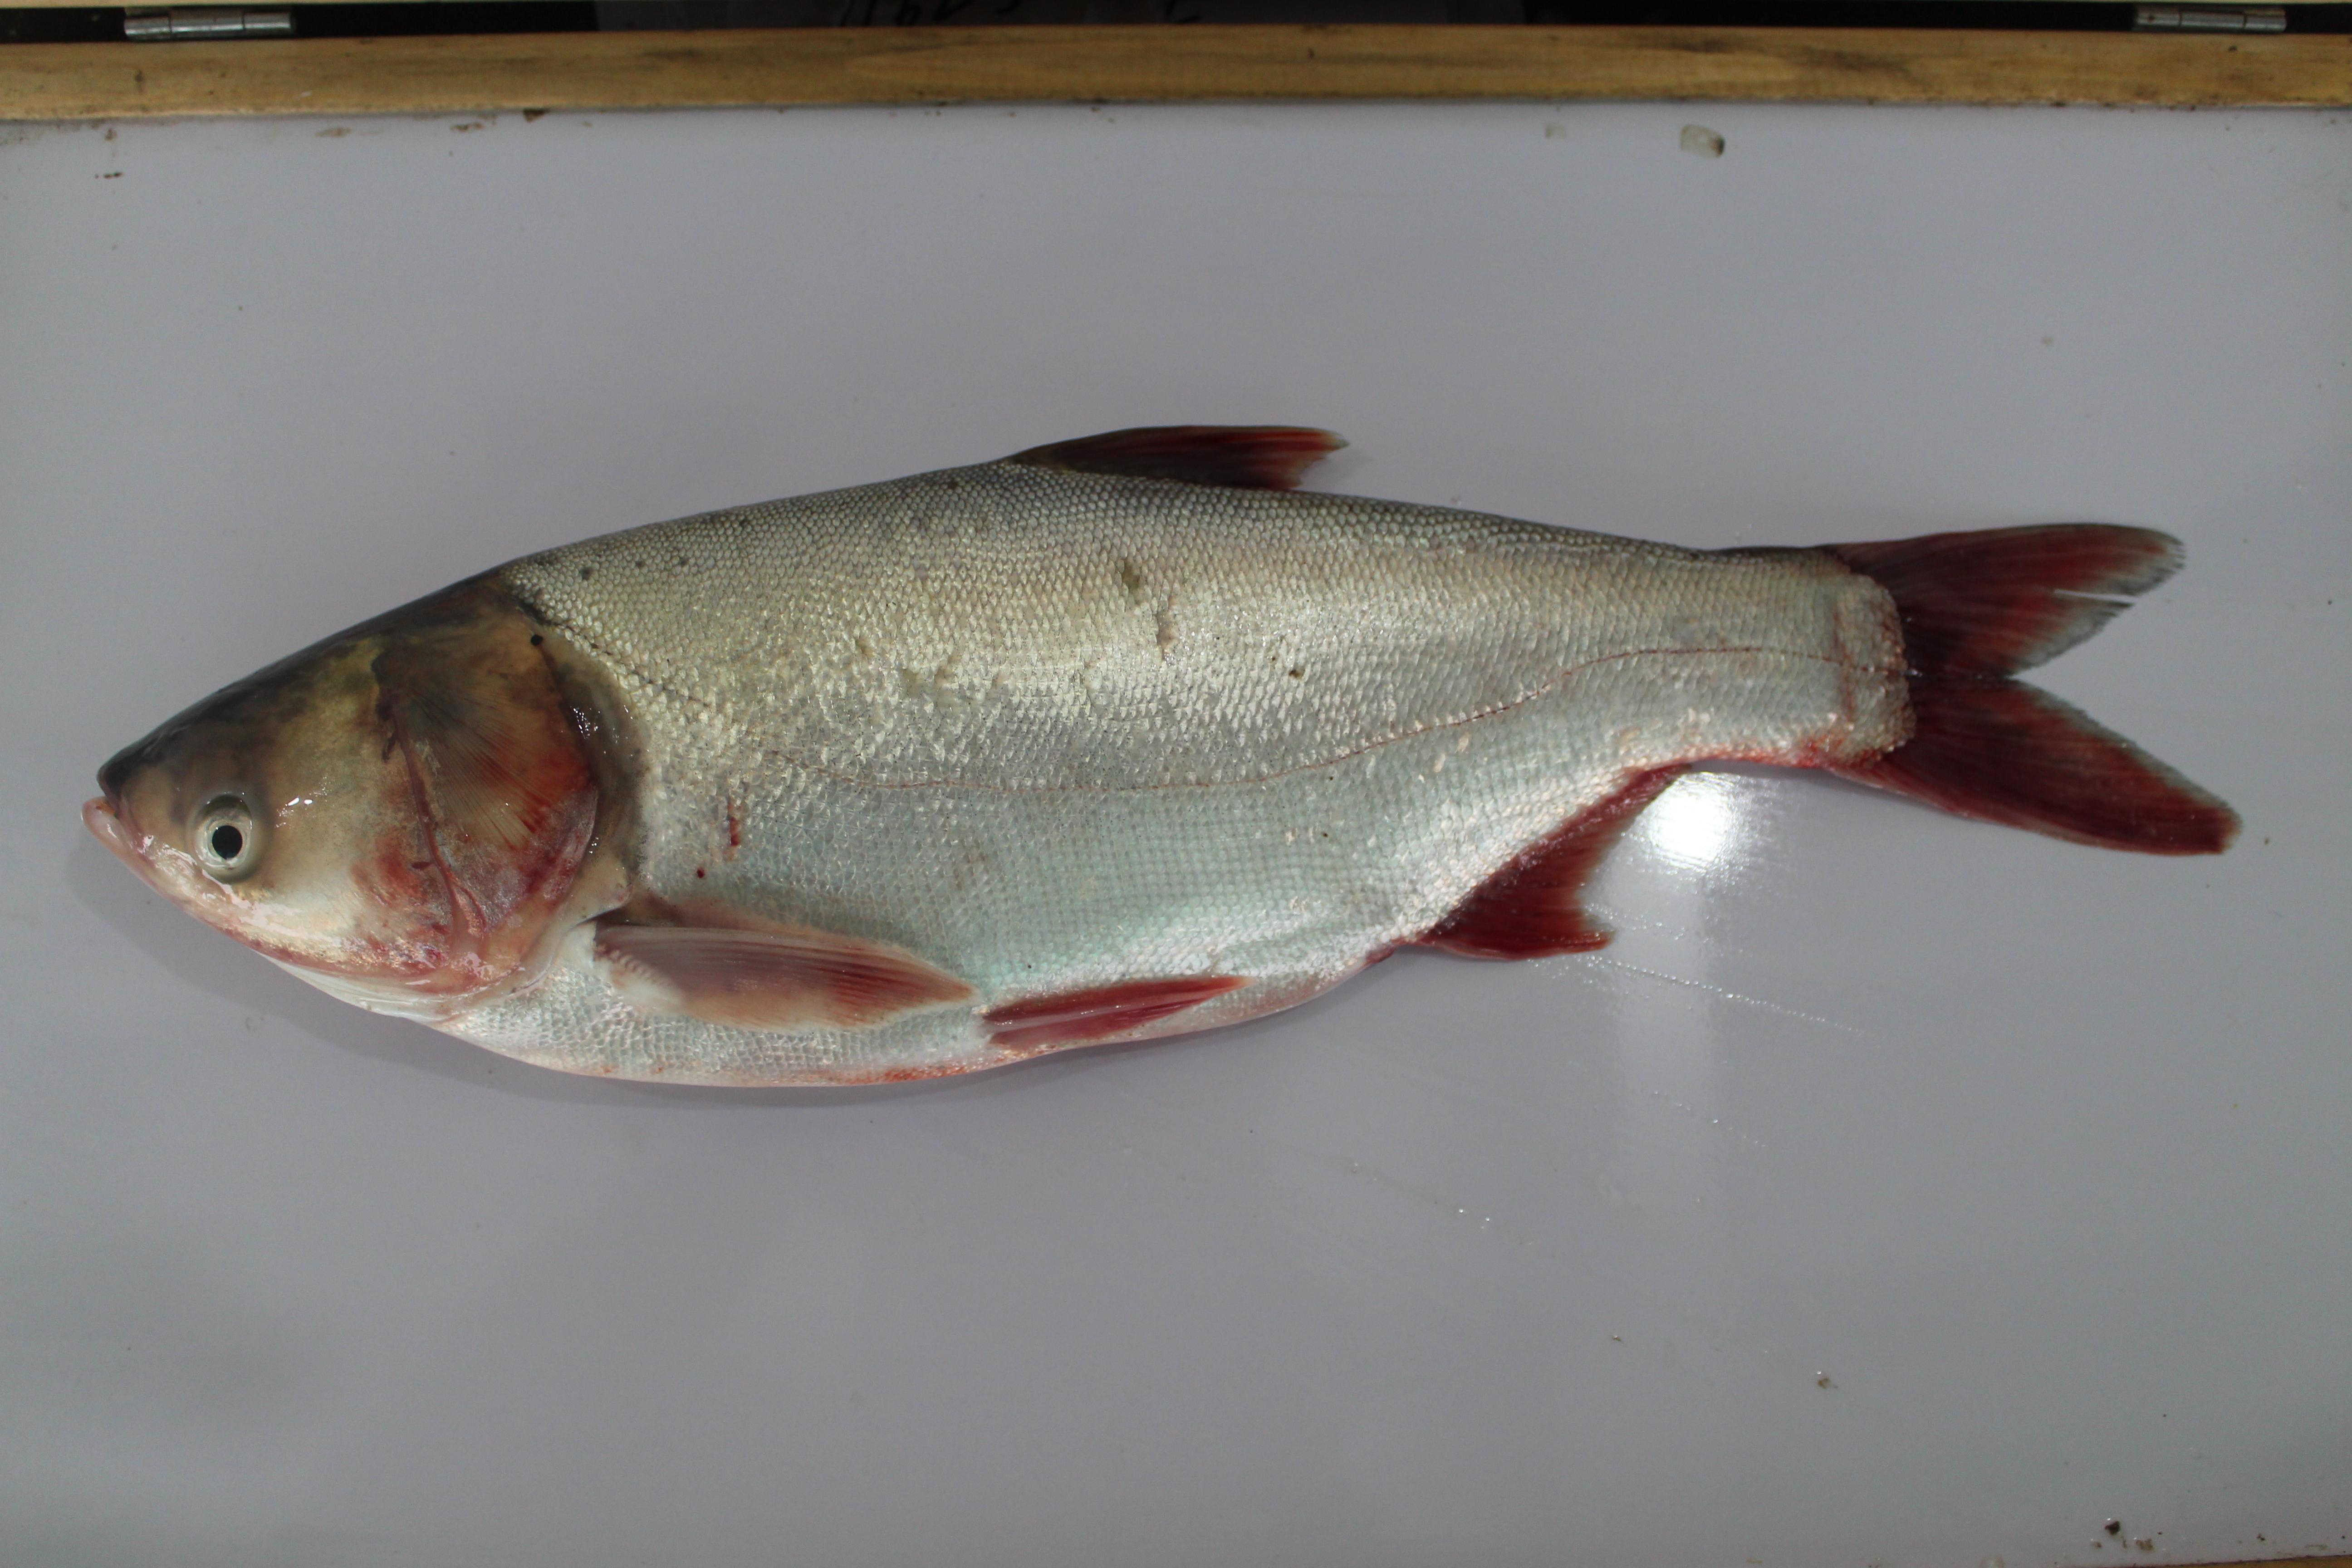Silver Carp: (102, 422, 2242, 1097)
